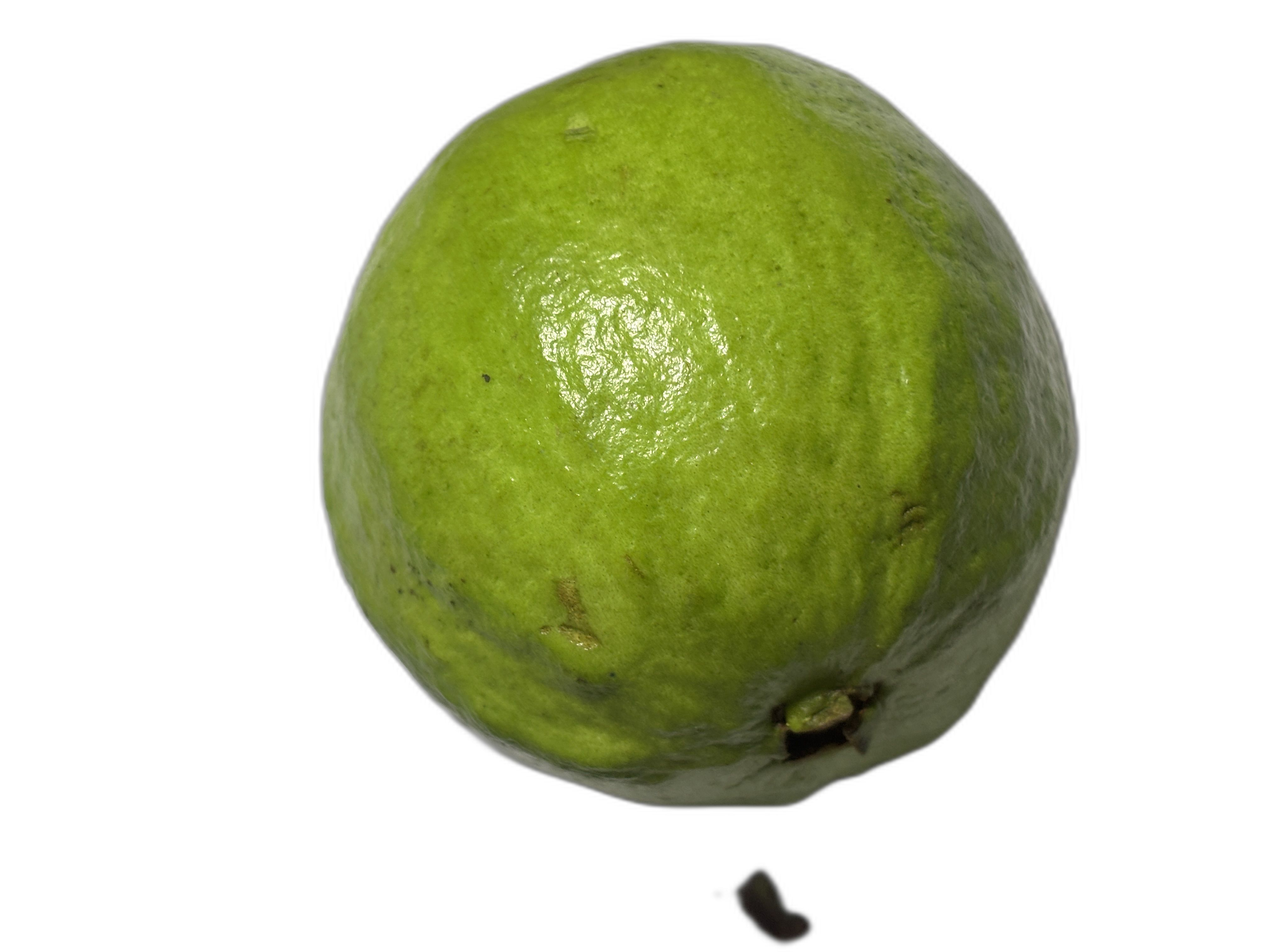guava: (95, 77, 1174, 821)
